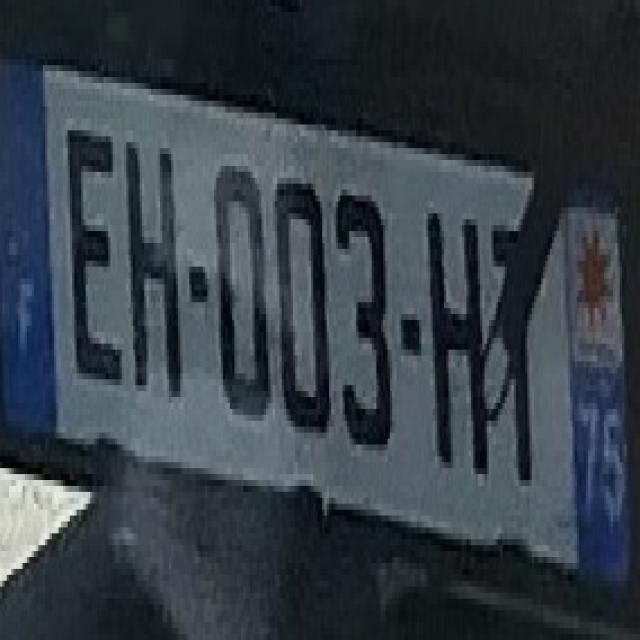EU: (0, 62, 630, 597)
France: (0, 59, 56, 439)
